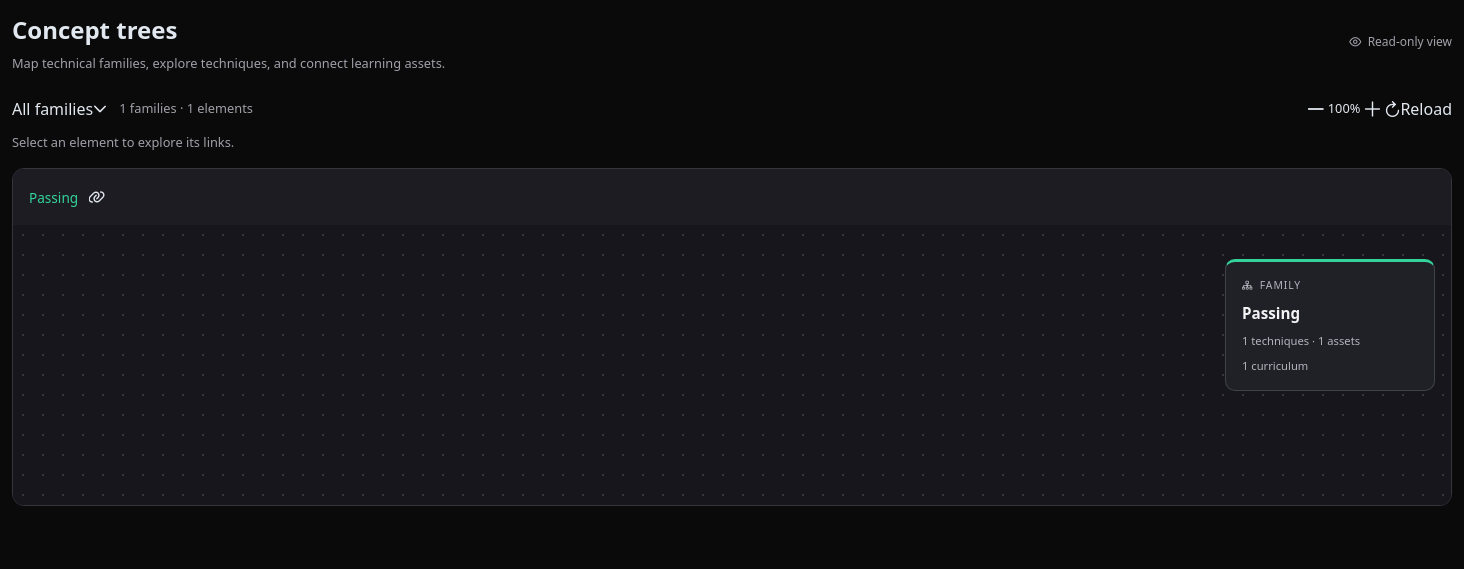
Scenario: concept tree viewing modes › renders saved layouts and links for non-admins (readOnly prop false)
expect the list item with class "horizontal" is shown: met, box [1201,249,1435,402]
Click the button with class "concept-card".
click(1330, 325)  # box [1225,259,1435,391]
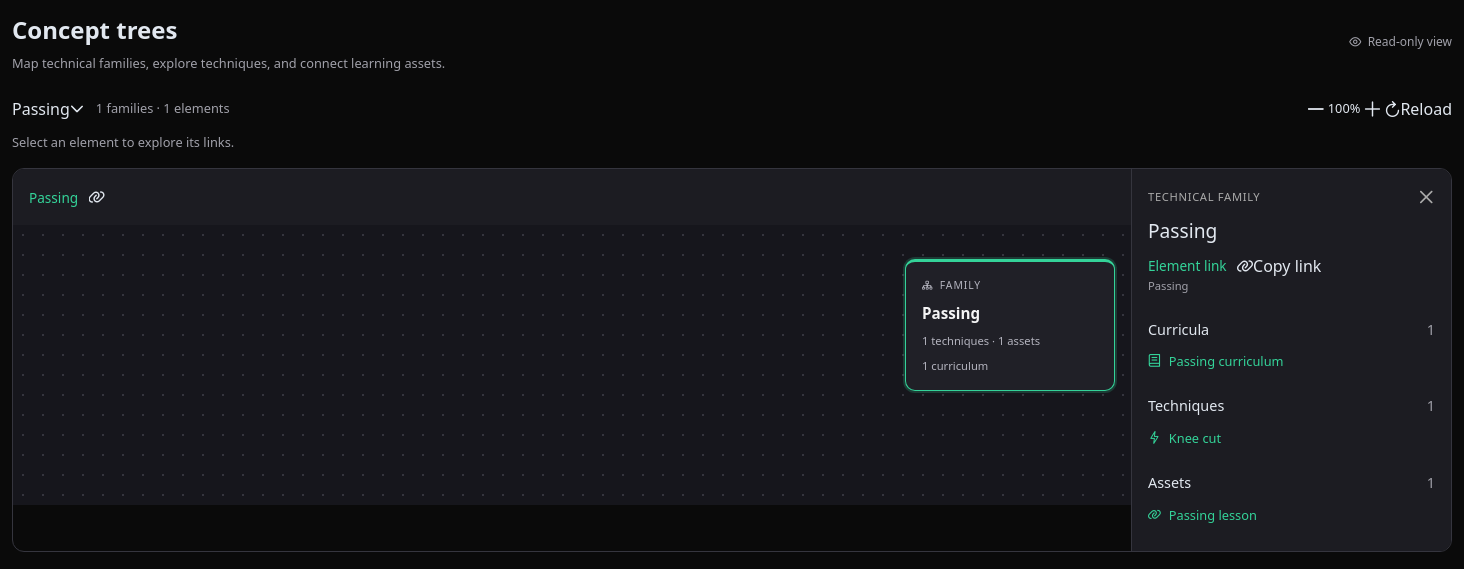
expect the link to "/techniques/tech" reads "Knee cut": met, box [1148,429,1221,447]
expect the link to "/assets/asset" reads "Passing lesson": met, box [1148,506,1257,524]
expect the link to "/curricula/course" reads "Passing curriculum": met, box [1148,352,1284,370]
